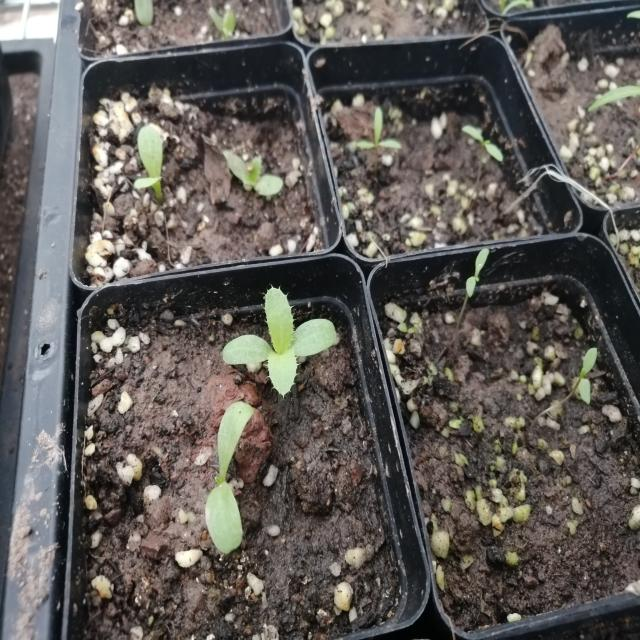field_thistle: (223, 266, 347, 416), (179, 393, 274, 557)
